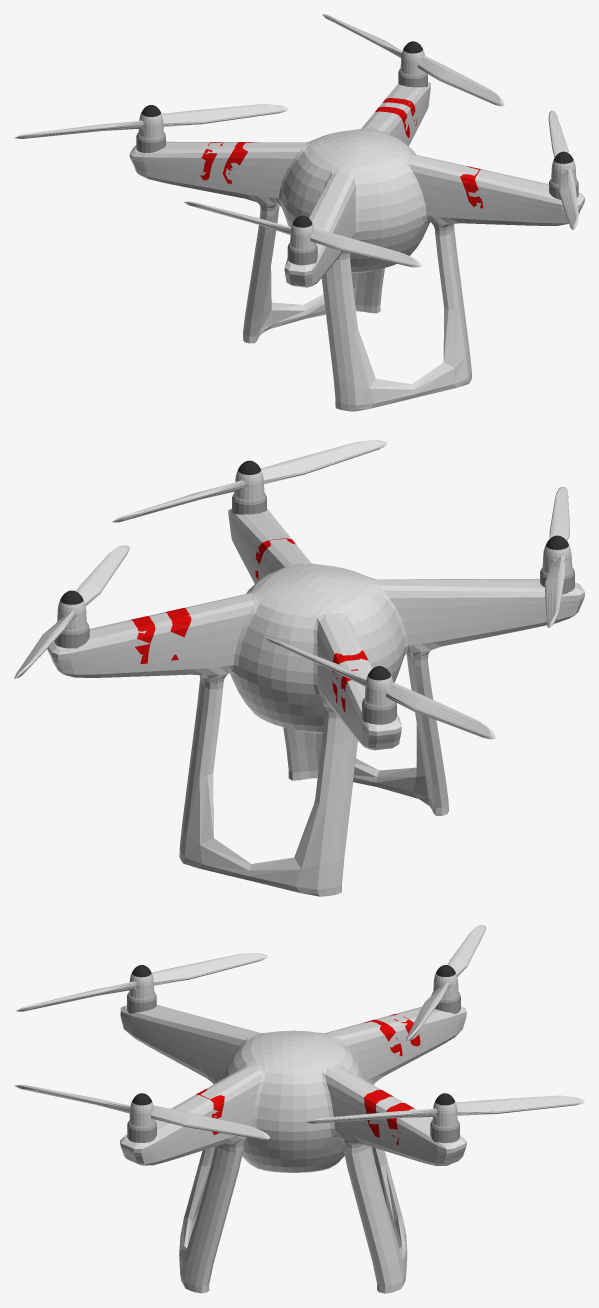
File: drone2.glb
The picture shows the model from 3 angles, top to bottom: view 1: azimuth 30°, elevation 25°; view 2: azimuth 150°, elevation 25°; view 3: azimuth 270°, elevation 25°; orthographic projection. The views are drawn at different scales.
Size of the model in its own units: 17.59 by 8.9 by 19.96.
